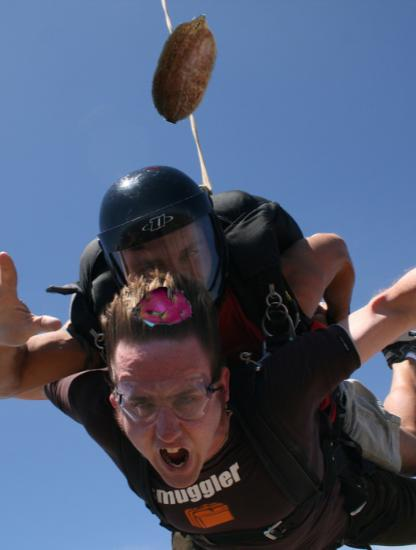Nut: (129, 11, 242, 124)
Pitahaya: (131, 277, 193, 339)
